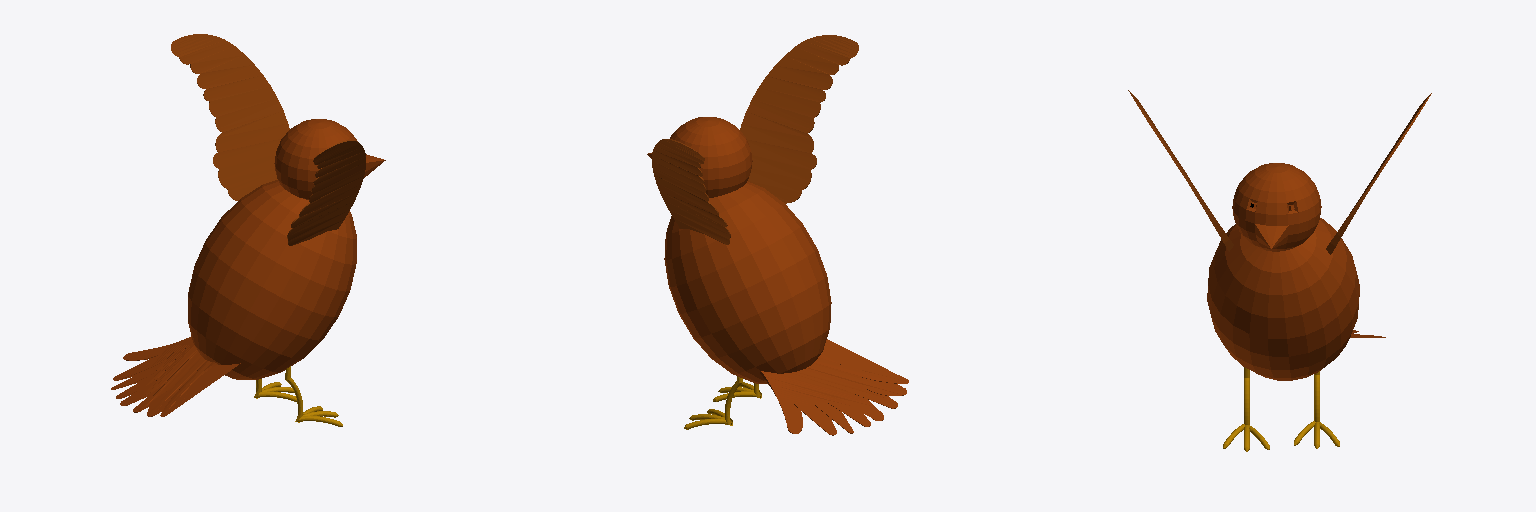
Rendered from bird.obj.
3 renders of one model, left to right at view 1: azimuth 30°, elevation 25°; view 2: azimuth 150°, elevation 25°; view 3: azimuth 270°, elevation 25°, orthographic.
Visible parts, largest first — view 1: Mesh10 bird1 Model, Mesh11 bird1 Model, Mesh8 bird1 Model, Mesh7 bird1 Model, Mesh1 bird1 Model; view 2: Mesh10 bird1 Model, Mesh7 bird1 Model, Mesh8 bird1 Model, Mesh11 bird1 Model, Mesh1 bird1 Model; view 3: Mesh10 bird1 Model, Mesh1 bird1 Model, Mesh11 bird1 Model, Mesh7 bird1 Model.
Part boxes in pixels (x1,y1,x2,y2): Mesh10 bird1 Model: (188, 180, 356, 379); Mesh11 bird1 Model: (171, 34, 289, 200); Mesh8 bird1 Model: (111, 336, 240, 416); Mesh7 bird1 Model: (287, 140, 365, 245); Mesh1 bird1 Model: (274, 119, 385, 199); Mesh10 bird1 Model: (664, 181, 831, 384); Mesh7 bird1 Model: (740, 35, 858, 203); Mesh8 bird1 Model: (760, 339, 908, 435); Mesh11 bird1 Model: (652, 139, 730, 244); Mesh1 bird1 Model: (647, 117, 752, 197); Mesh10 bird1 Model: (1207, 218, 1359, 380); Mesh1 bird1 Model: (1232, 163, 1321, 251); Mesh11 bird1 Model: (1326, 93, 1431, 254); Mesh7 bird1 Model: (1128, 90, 1233, 251).
Bounding box in the file's own units: 292 × 365 × 306.